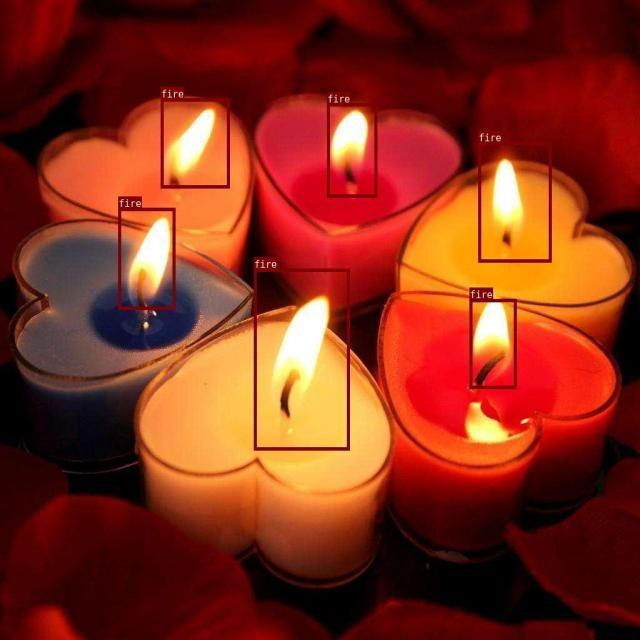fire: (254, 268, 349, 450), (478, 142, 551, 261), (160, 98, 229, 188), (118, 207, 175, 309), (327, 103, 376, 197), (469, 299, 516, 389)
